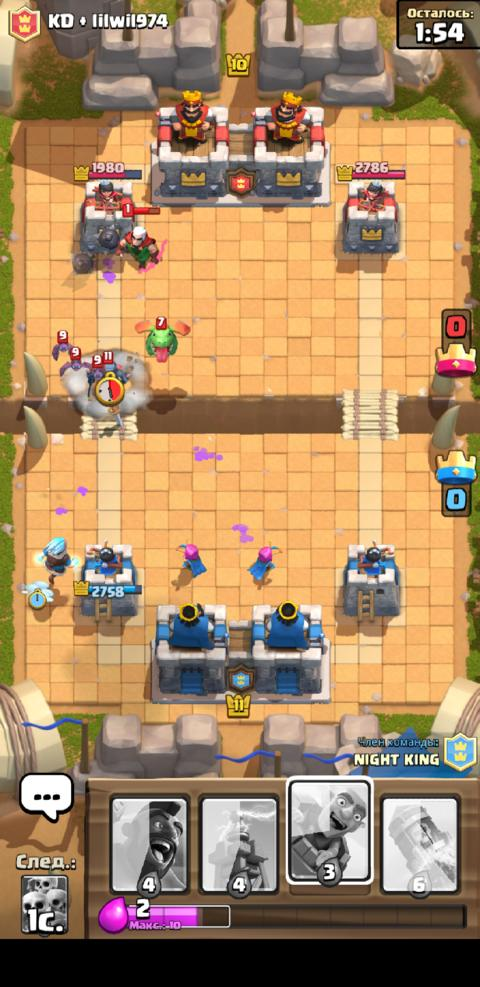ally_archer: (245, 537, 282, 582), (172, 534, 208, 579)
ally_ice_wizard: (31, 533, 80, 593)
enemy_baby_dragon: (132, 314, 191, 362)
enemy_bat: (58, 345, 90, 376), (50, 328, 73, 360), (84, 353, 105, 379)
enemy_magic_archer: (113, 202, 169, 274)
enemy_mini_pekka: (85, 348, 131, 398)
